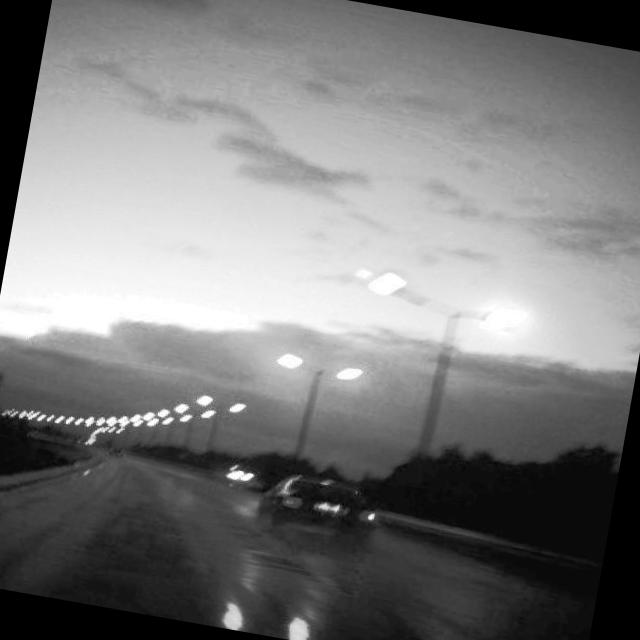Car: (239, 433, 396, 562)
